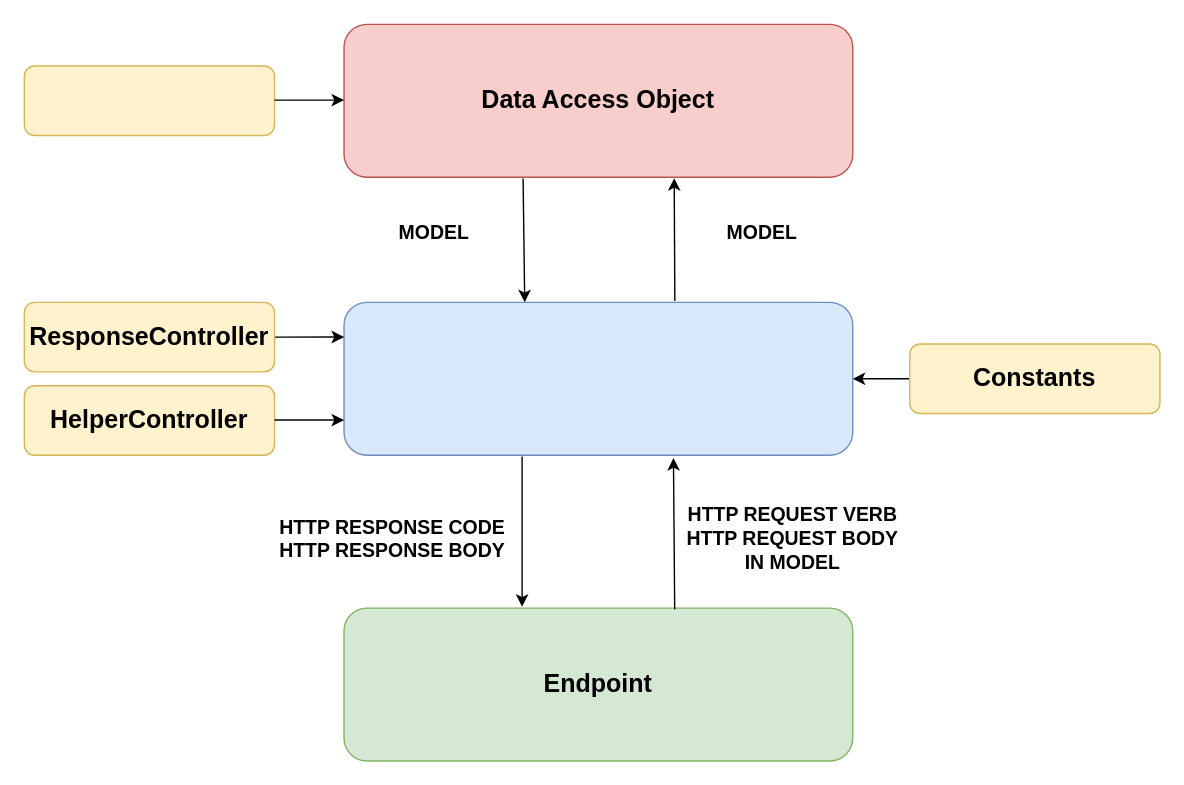
Image size: 1184x785. Some labels were removed from this diagram. The shapes that lost their labels are listed below. From the top down, each one's centre as x and y in pixels, then its label:
At point (149, 100): "DatabaseConnector".
At point (598, 378): "Controller".
